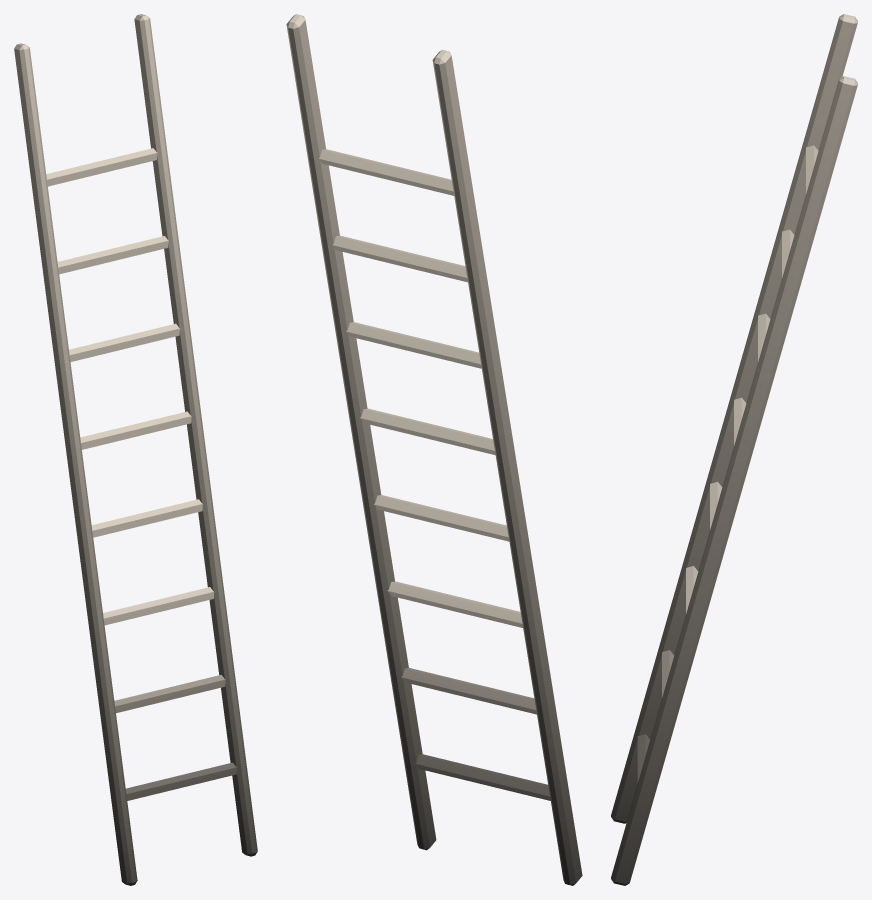
Rendered from SM_VK_Prop_LadderLean.fbx.
3 renders of one model, left to right at view 1: azimuth 30°, elevation 25°; view 2: azimuth 150°, elevation 25°; view 3: azimuth 270°, elevation 25°, orthographic. The views are drawn at different scales.
Parts seen in each view (by area): view 1: SM_VK_Prop_LadderLean.001; view 2: SM_VK_Prop_LadderLean.001; view 3: SM_VK_Prop_LadderLean.001.
Part boxes in pixels (<box>): SM_VK_Prop_LadderLean.001: <box>14,14,257,885</box>; SM_VK_Prop_LadderLean.001: <box>286,14,582,885</box>; SM_VK_Prop_LadderLean.001: <box>611,14,857,885</box>.
Bounding box in the file's own units: 0.5 × 2.79 × 0.7721.
